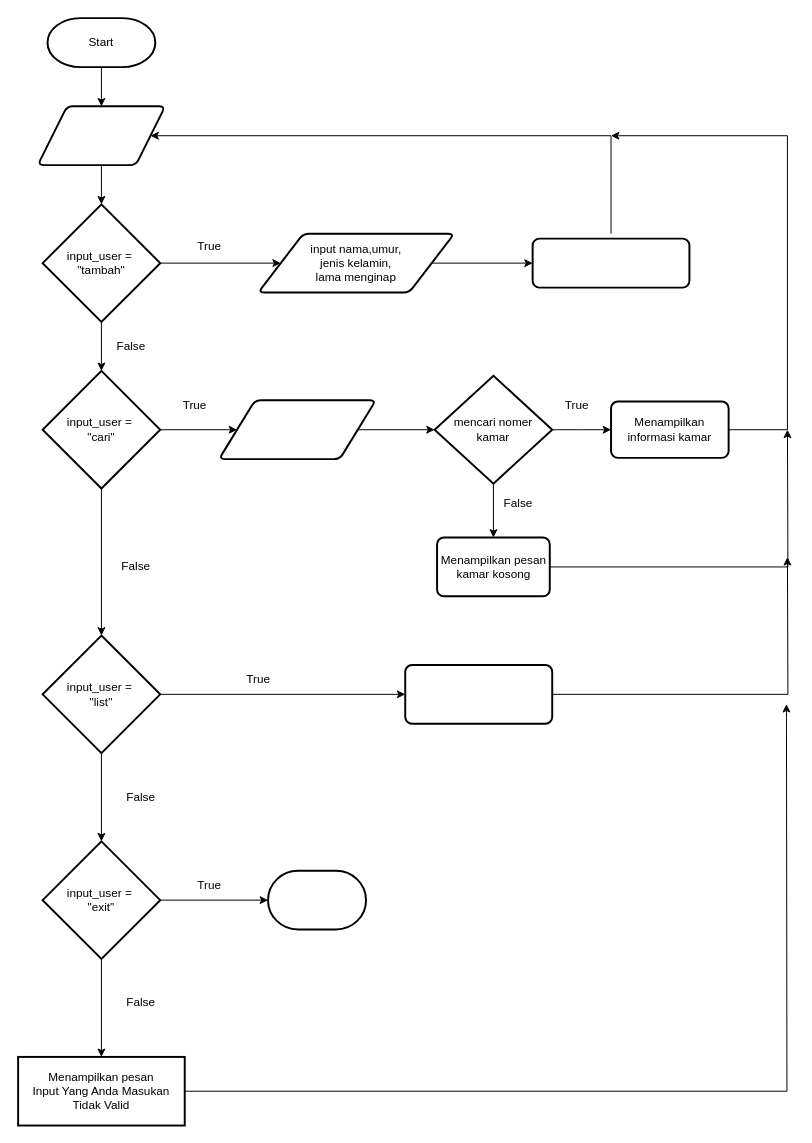
The diagram is 812 pixels wide and 1143 high, and some of its shapes have lost their labels. Here are the shapes that lost their labels. From the top down, the centre of each, then its label:
(101,135): input_user
(610,262): Menampilkan pesan Kamar Ditambahkan
(297,429): input nomer kamar
(478,693): Tampilkan status setiap kamar
(317,899): End
